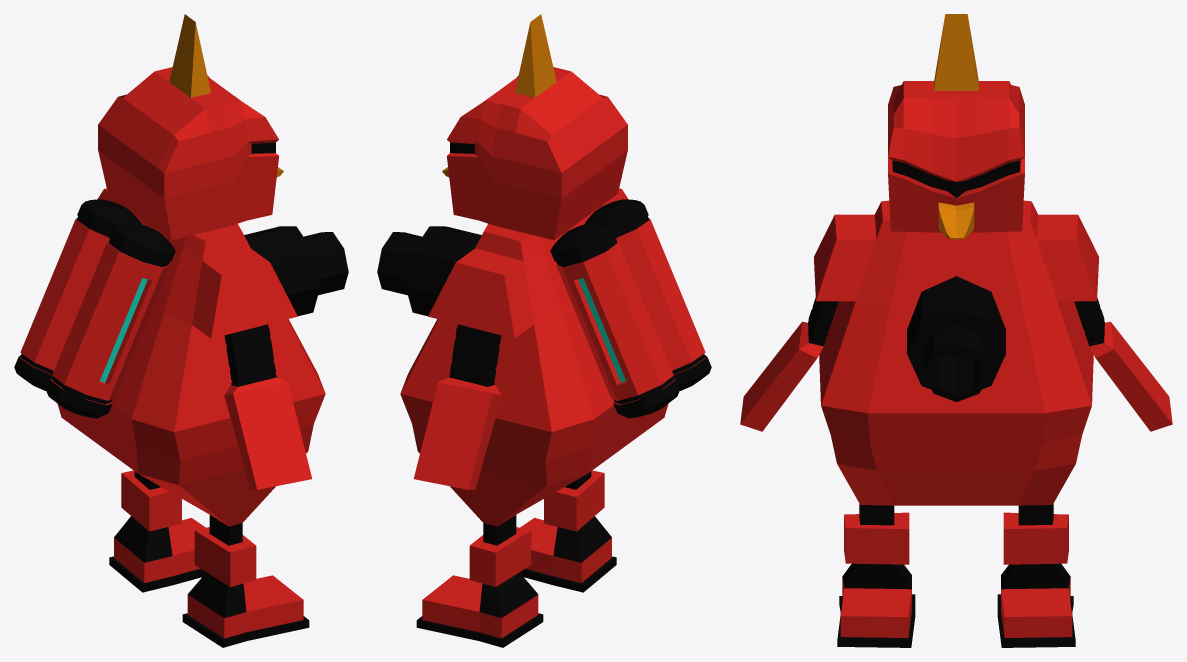
Rendered from Robo_Penguin_Export_Ready.fbx.
The picture shows the model from 3 angles, left to right: view 1: azimuth 30°, elevation 25°; view 2: azimuth 150°, elevation 25°; view 3: azimuth 270°, elevation 25°; orthographic projection. The views are drawn at different scales.
Visible parts, largest first — view 1: Cannon; view 2: Cannon; view 3: Cannon.
Boxes of the visible parts, x1,y1,x2,y2 form: Cannon: (14,14,348,647); Cannon: (377,14,711,647); Cannon: (740,14,1172,647).
Bounding box in the file's own units: 258 × 484 × 315.
